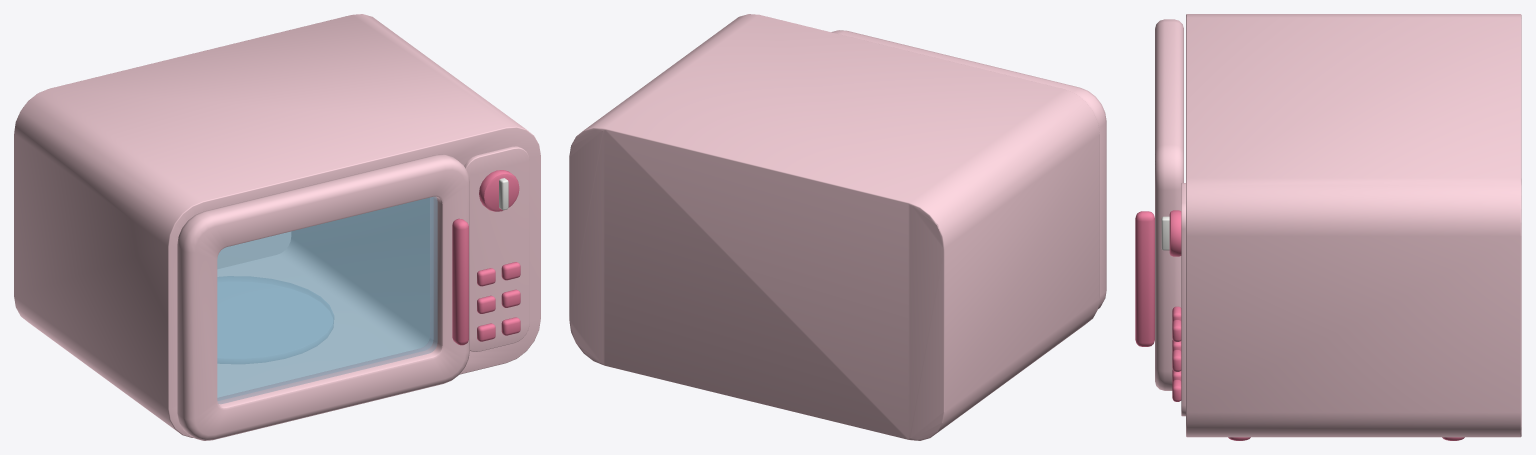
File: micro_ondas_rosa.glb
The picture shows the model from 3 angles, left to right: view 1: azimuth 30°, elevation 25°; view 2: azimuth 150°, elevation 25°; view 3: azimuth 270°, elevation 25°; orthographic projection. The views are drawn at different scales.
Visible parts, largest first — view 1: micro_ondas_rosa, porta; view 2: micro_ondas_rosa, porta; view 3: micro_ondas_rosa, porta.
Boxes of the visible parts, x1,y1,x2,y2 form: micro_ondas_rosa: [14, 14, 540, 437]; porta: [177, 154, 469, 440]; micro_ondas_rosa: [569, 14, 1099, 440]; porta: [831, 30, 1106, 308]; micro_ondas_rosa: [1161, 14, 1521, 440]; porta: [1135, 19, 1183, 390].
Size of the model in its own units: 0.48 by 0.302 by 0.397.
2 materials, 1 textured.
